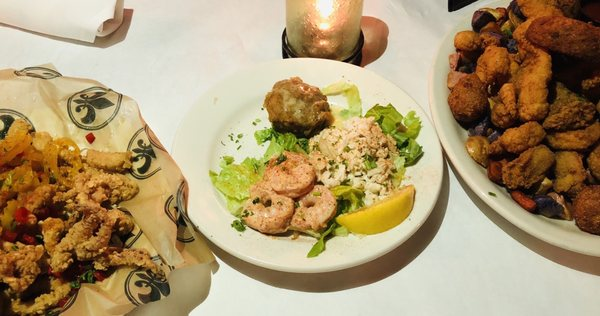sushi: (166, 26, 450, 282), (426, 0, 599, 265)
